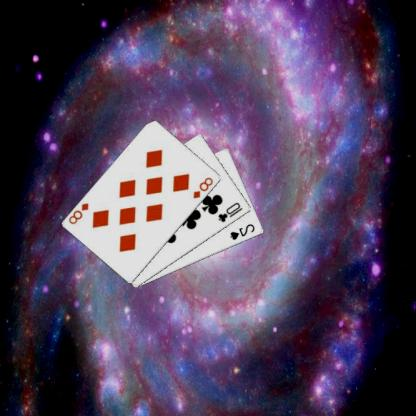10C: (217, 199, 246, 224)
2S: (229, 221, 258, 241)
8D: (192, 174, 217, 200), (68, 200, 92, 225)
